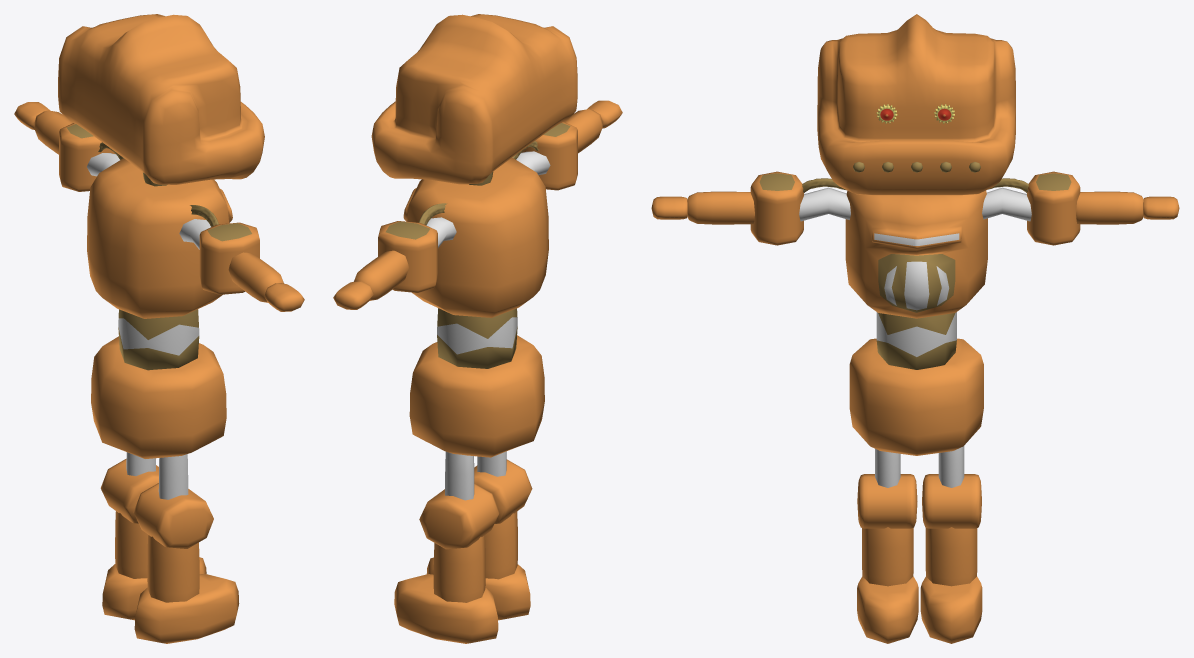
File: Robot.fbx
The picture shows the model from 3 angles, left to right: view 1: azimuth 30°, elevation 25°; view 2: azimuth 150°, elevation 25°; view 3: azimuth 270°, elevation 25°; orthographic projection.
Parts seen in each view (by area): view 1: Head, Chest, Hip, Foot_Left, Belly, Knee_Left, Elbow_Left, Leg_Left, Elbow_Right, Knee_Right, Leg_Right, Foot_Right (+8 smaller); view 2: Head, Chest, Hip, Foot_Right, Belly, Knee_Right, Elbow_Right, Leg_Right, Elbow_Left, Knee_Left, Leg_Left, Foot_Left (+8 smaller); view 3: Head, Chest, Hip, Belly, Elbow_Right, Elbow_Left, Foot_Right, Foot_Left, Knee_Left, Leg_Right, Knee_Right, Leg_Left (+8 smaller).
Part boxes in pixels (<box>): Head: <box>58,14,264,184</box>; Chest: <box>87,158,232,318</box>; Hip: <box>91,336,226,458</box>; Foot_Left: <box>134,573,239,643</box>; Belly: <box>118,309,199,370</box>; Knee_Left: <box>133,483,213,548</box>; Elbow_Left: <box>199,222,259,294</box>; Leg_Left: <box>147,535,199,602</box>; Elbow_Right: <box>59,123,115,191</box>; Knee_Right: <box>100,458,158,523</box>; Leg_Right: <box>115,511,148,578</box>; Foot_Right: <box>102,557,206,620</box>; Head: <box>371,14,577,184</box>; Chest: <box>403,158,548,317</box>; Hip: <box>409,335,544,457</box>; Foot_Right: <box>394,574,498,643</box>; Belly: <box>437,308,517,368</box>; Knee_Right: <box>419,483,499,549</box>; Elbow_Right: <box>378,221,437,292</box>; Leg_Right: <box>433,535,485,602</box>; Elbow_Left: <box>522,122,577,190</box>; Knee_Left: <box>474,459,532,523</box>; Leg_Left: <box>485,511,517,579</box>; Foot_Left: <box>426,557,530,620</box>; Head: <box>817,14,1015,195</box>; Chest: <box>845,190,987,318</box>; Hip: <box>849,338,983,455</box>; Belly: <box>876,312,956,369</box>; Elbow_Right: <box>1027,171,1080,245</box>; Elbow_Left: <box>750,171,803,245</box>; Foot_Right: <box>920,576,982,643</box>; Foot_Left: <box>857,576,918,643</box>; Knee_Left: <box>857,474,917,528</box>; Leg_Right: <box>925,527,977,586</box>; Knee_Right: <box>922,474,981,528</box>; Leg_Left: <box>862,527,913,586</box>.
Bounding box in the file's own units: 194 × 850 × 681.
